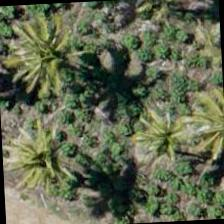Kelapa_Sawit: (0, 9, 95, 105), (120, 76, 215, 170), (0, 106, 86, 201), (165, 19, 223, 113)
